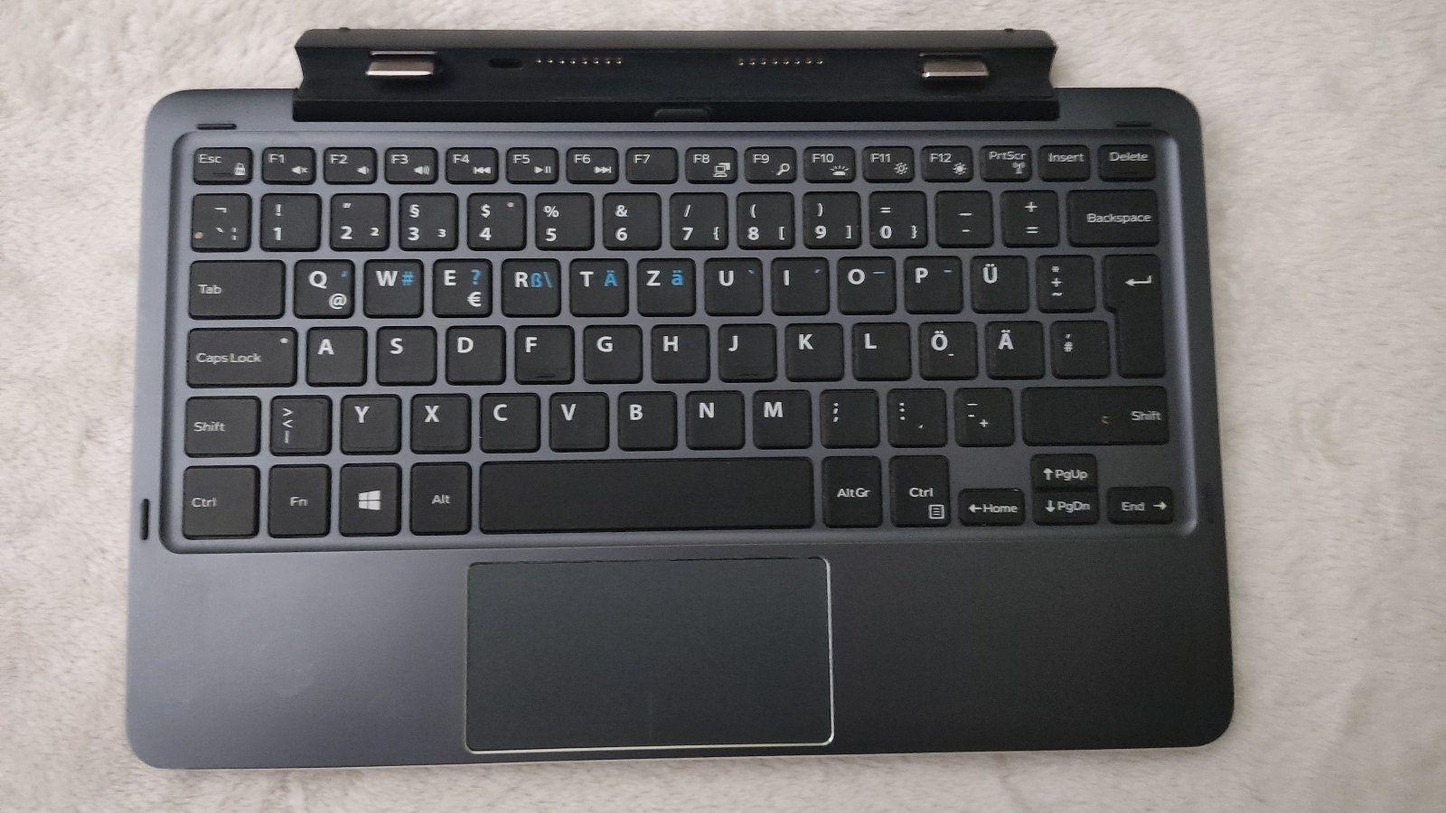0: (866, 188, 925, 247)
1: (258, 190, 319, 249)
2: (327, 191, 389, 248)
3: (395, 190, 456, 248)
4: (465, 189, 525, 248)
5: (532, 189, 592, 248)
6: (600, 189, 660, 248)
7: (667, 189, 727, 248)
8: (734, 189, 792, 248)
9: (800, 188, 859, 247)
a: (303, 323, 364, 384)
accent: (999, 186, 1058, 245)
ae: (983, 317, 1044, 378)
alt-left: (408, 460, 470, 535)
altgr-right: (820, 453, 881, 527)
b: (614, 388, 675, 448)
c: (476, 388, 539, 451)
caret: (188, 190, 249, 248)
comma: (817, 385, 878, 446)
d: (443, 322, 503, 382)
del: (1064, 184, 1160, 244)
e: (431, 255, 492, 316)
enter: (1100, 250, 1163, 378)
f: (512, 322, 572, 381)
g: (580, 321, 640, 380)
h: (648, 321, 708, 380)
hash: (1048, 317, 1108, 377)
i: (768, 253, 828, 313)
j: (716, 320, 774, 379)
k: (783, 319, 842, 378)
keyboard: (154, 121, 1201, 550)
l: (850, 319, 909, 378)
less: (267, 391, 330, 453)
m: (749, 385, 811, 447)
minus: (951, 384, 1012, 444)
n: (682, 387, 743, 447)
o: (834, 253, 894, 313)
oe: (916, 318, 977, 378)
p: (901, 252, 962, 313)
plus: (1034, 250, 1094, 310)
point: (884, 384, 946, 444)
q: (290, 255, 354, 316)
r: (499, 254, 560, 315)
s: (372, 322, 434, 383)
shift-left: (179, 391, 258, 455)
shift-lock: (183, 322, 296, 386)
shift-right: (1019, 381, 1169, 444)
space: (478, 454, 811, 529)
ss: (934, 187, 991, 244)
strg-left: (177, 461, 258, 538)
strg-right: (887, 452, 950, 526)
t: (567, 254, 627, 315)
tab: (185, 255, 283, 316)
u: (700, 253, 762, 314)
ue: (967, 251, 1028, 313)
v: (546, 388, 607, 450)
w: (362, 255, 423, 316)
x: (407, 389, 469, 451)
y: (337, 390, 399, 453)
z: (634, 255, 695, 315)
